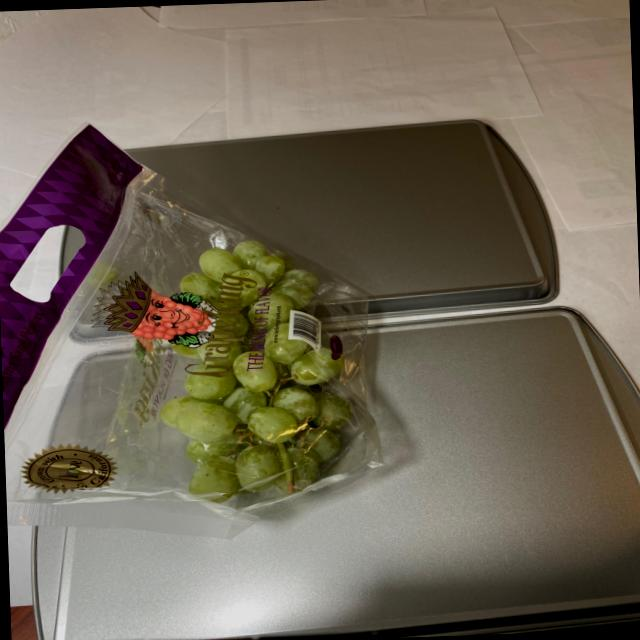grapes: (175, 228, 346, 510)
